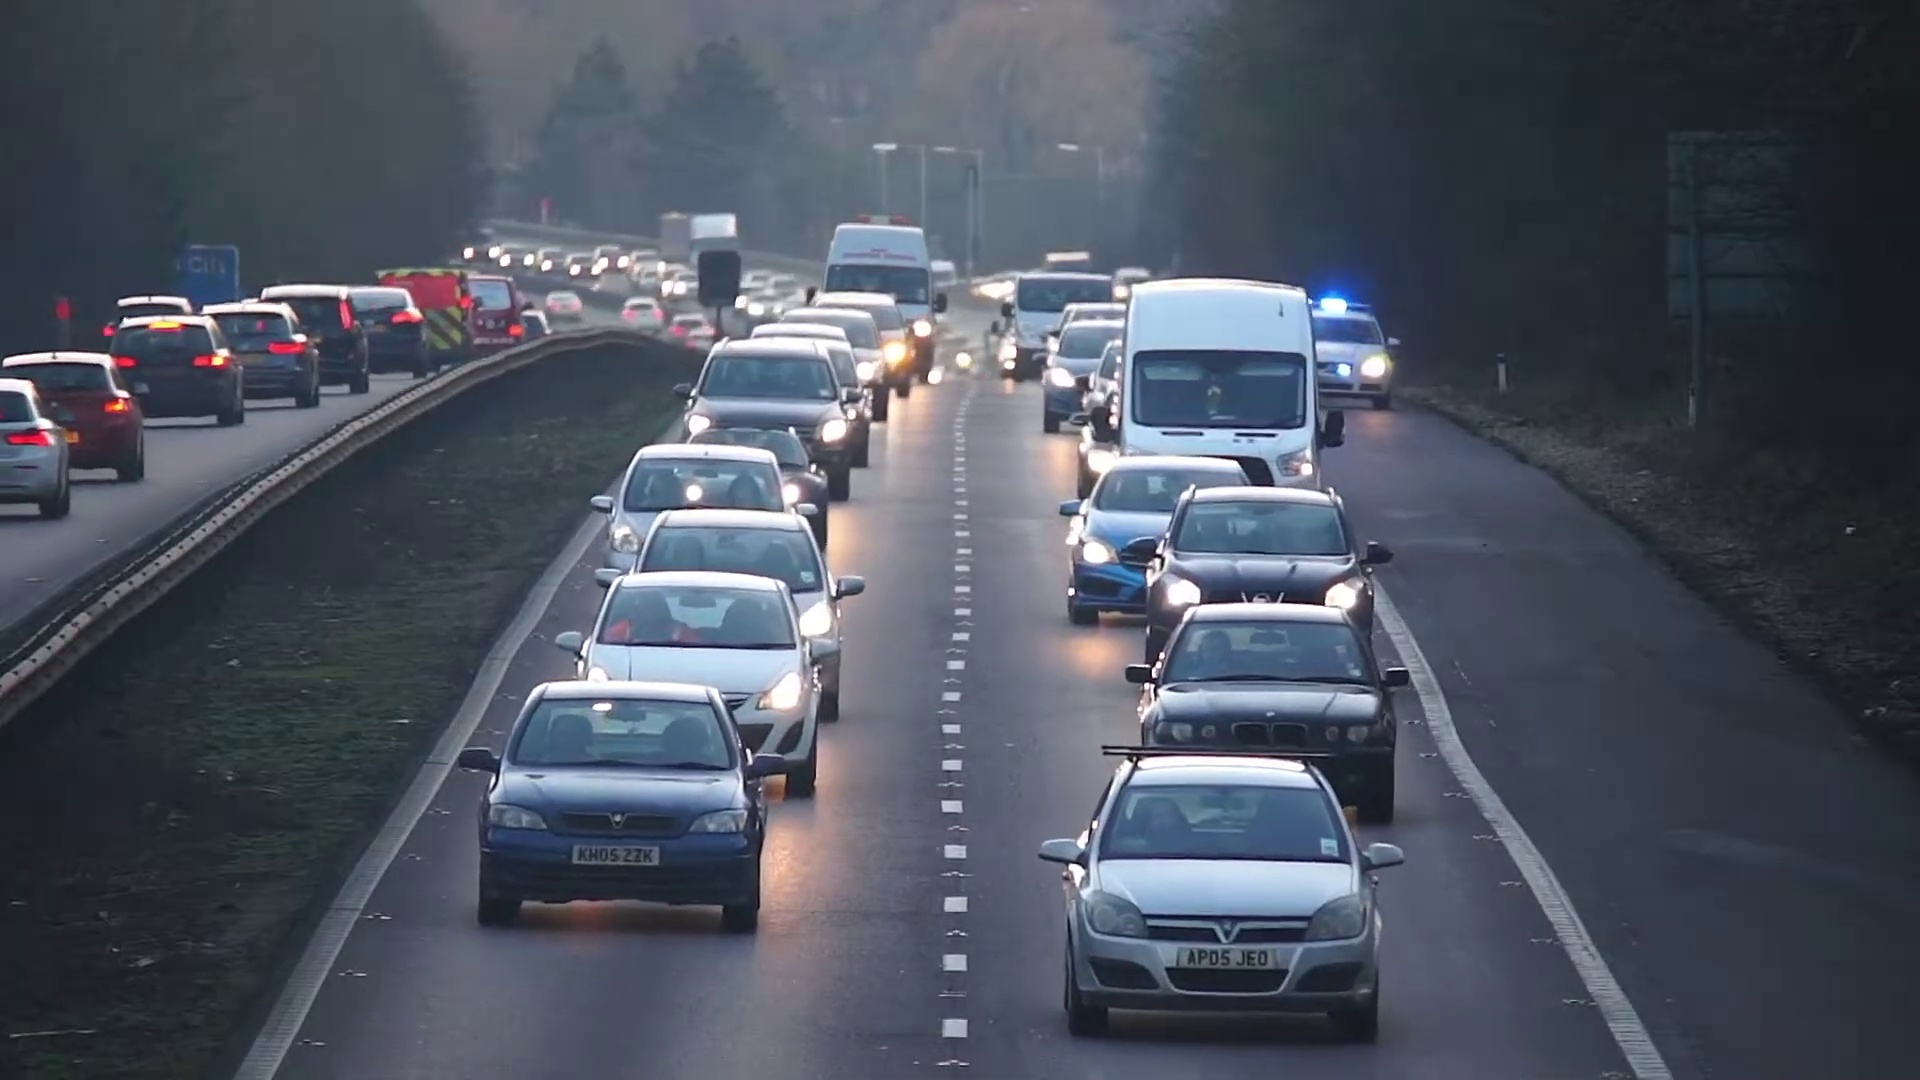license_plate: (1173, 944, 1274, 972), (565, 846, 660, 865)
